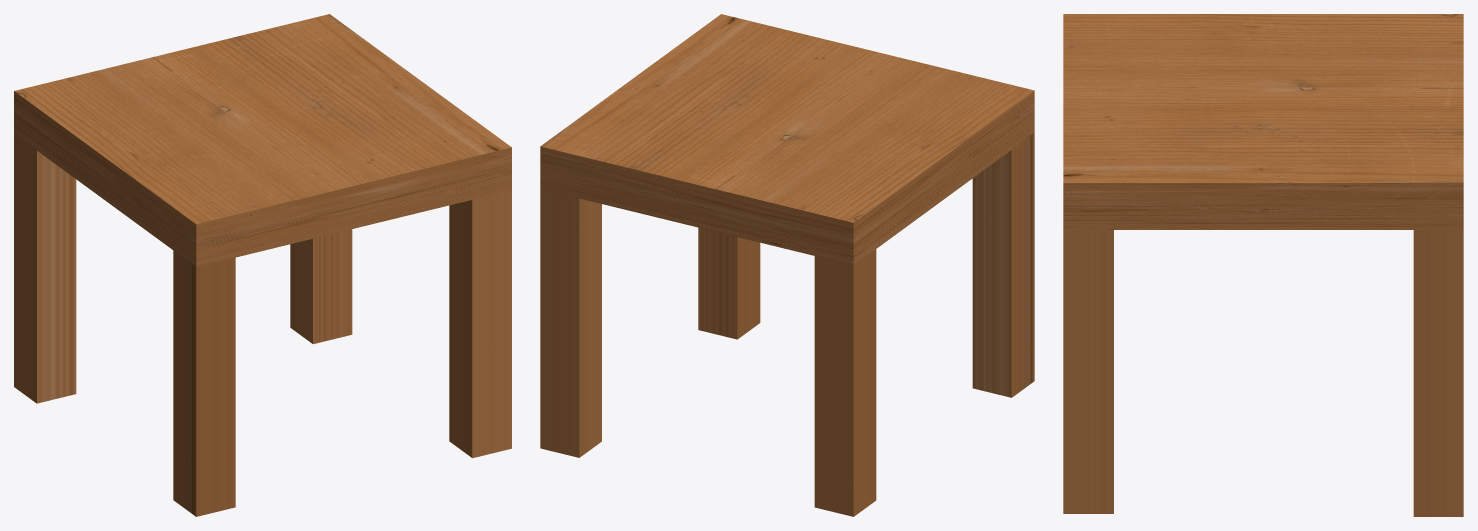
File: TABLETOPBALRAM.glb
3 renders of one model, left to right at view 1: azimuth 30°, elevation 25°; view 2: azimuth 150°, elevation 25°; view 3: azimuth 270°, elevation 25°, orthographic. The views are drawn at different scales.
Parts seen in each view (by area): view 1: Cube; view 2: Cube; view 3: Cube.
Boxes of the visible parts, x1,y1,x2,y2 form: Cube: (14,14,511,516); Cube: (540,14,1034,516); Cube: (1063,14,1463,516).
Size of the model in its own units: 2.11 by 1.94 by 2.11.
1 material, 1 textured.
